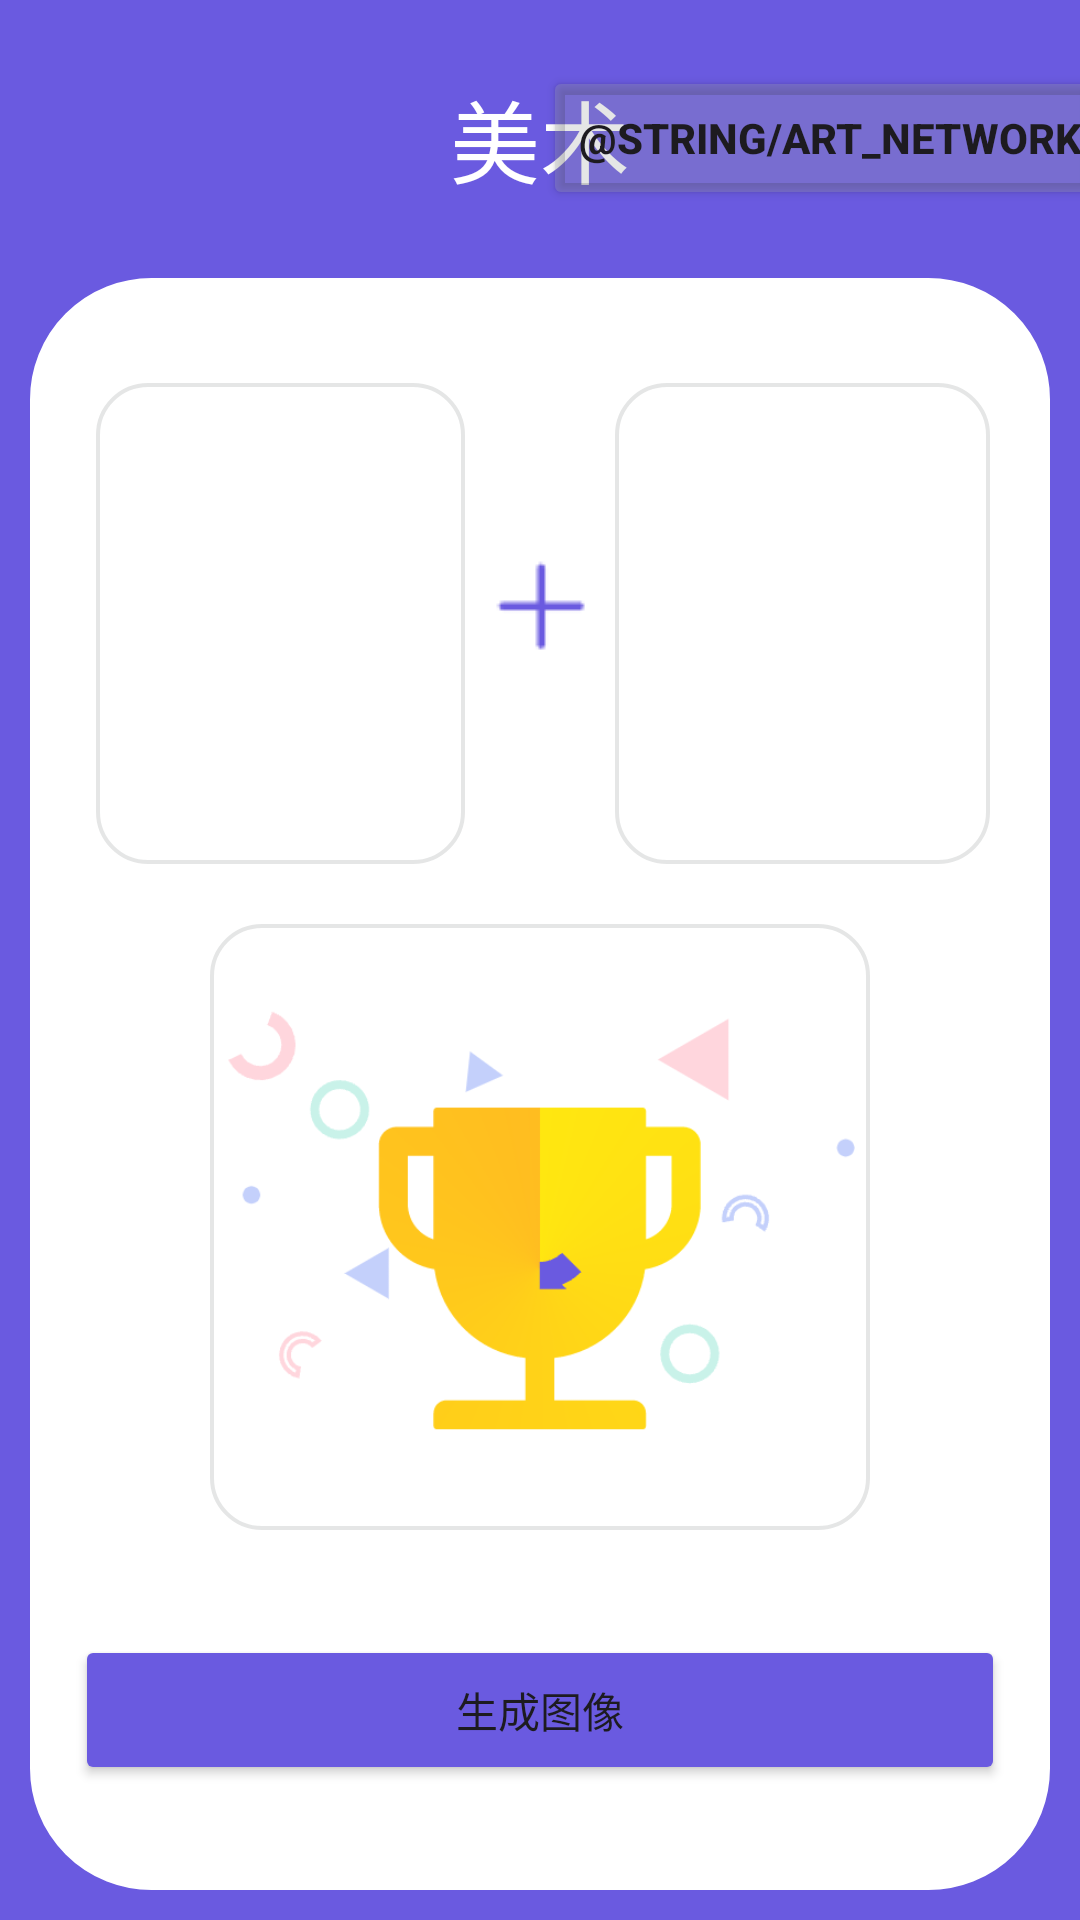

Named icons in this screenshot (1080px×1920px) and their centers, [x,y]:
plus: [541,606]
